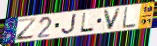2: (36, 15, 54, 39)
J: (60, 13, 78, 35)
L: (121, 6, 137, 30), (79, 12, 95, 33)
V: (102, 7, 123, 31)
Z: (16, 17, 38, 41)
